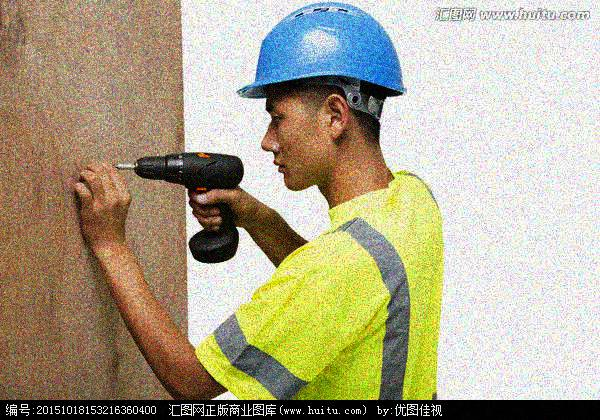helmet: (237, 2, 410, 191)
